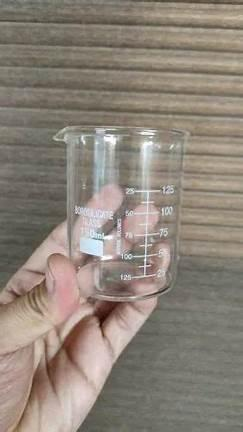Beaker: (51, 119, 192, 305)
